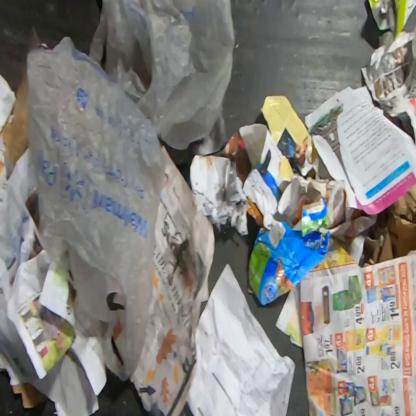cardboard: (247, 196, 331, 306), (359, 182, 415, 268), (0, 68, 30, 165), (11, 383, 50, 410)
soft_plastic: (24, 34, 167, 384), (87, 0, 236, 167)
